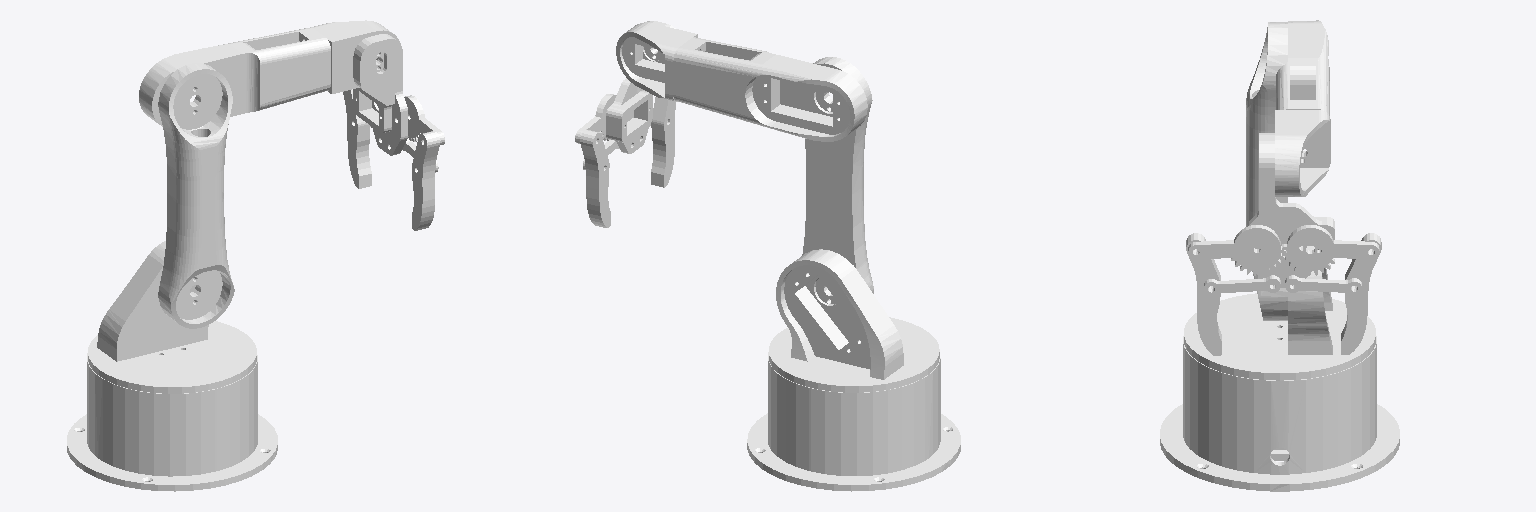
The robot description file, URDF, robot "mocha":
<?xml version="1.0" ?>
<!-- =================================================================================== -->
<!-- |    This document was autogenerated by xacro from [local-path]/catkin_ws/src/mocha/urdf/mocha.urdf.xacro | -->
<!-- |    EDITING THIS FILE BY HAND IS NOT RECOMMENDED                                 | -->
<!-- =================================================================================== -->
<!-- This URDF was automatically created by SolidWorks to URDF Exporter! Originally created by [author] ([email redacted]) 
     Commit Version: 1.6.0-4-g7f85cfe  Build Version: 1.6.7995.38578
     For more information, please see http://wiki.ros.org/sw_urdf_exporter -->
<robot name="mocha">
    <link name="world" />
    <joint name="base_joint" type="fixed">
        <parent link="world" />
        <child link="base_link" />
        <origin rpy="0 0 0" xyz="0.0 0.0 0.0" />
    </joint>
    <link name="base_link">
        <inertial>
            <origin rpy="0 0 0" xyz="0.000117199417675082 -3.05975474124143E-09 0.0223035723181941" />
            <mass value="0.0979582534406825" />
            <inertia ixx="0.000130552228522341" ixy="-2.22674811046477E-11" ixz="3.99226744269731E-06" iyy="0.000140414184143385" iyz="4.13550991731117E-13" izz="0.000212143374979004" />
        </inertial>
        <visual>
            <origin rpy="0 0 0" xyz="0 0 0" />
            <geometry>
                <mesh filename="package://mocha/meshes/base_link.STL" />
            </geometry>
            <material name="">
                <color rgba="1 1 1 1" />
            </material>
        </visual>
        <collision>
            <origin rpy="0 0 0" xyz="0 0 0" />
            <geometry>
                <mesh filename="package://mocha/meshes/base_link.STL" />
            </geometry>
        </collision>
    </link>
    <link name="waist">
        <inertial>
            <origin rpy="0 0 0" xyz="0.00169136098501852 0.00660819498532267 0.0133947545307733" />
            <mass value="0.0684427129118219" />
            <inertia ixx="4.56870454663408E-05" ixy="-3.78506837372467E-07" ixz="-6.20385180122017E-06" iyy="5.87238842271773E-05" iyz="-5.19129521124936E-06" izz="5.50839190250212E-05" />
        </inertial>
        <visual>
            <origin rpy="0 0 0" xyz="0 0 0" />
            <geometry>
                <mesh filename="package://mocha/meshes/waist.STL" />
            </geometry>
            <material name="">
                <color rgba="1 1 1 1" />
            </material>
        </visual>
        <collision>
            <origin rpy="0 0 0" xyz="0 0 0" />
            <geometry>
                <mesh filename="package://mocha/meshes/waist.STL" />
            </geometry>
        </collision>
    </link>
    <joint name="waist_joint" type="revolute">
        <origin rpy="0 0 0" xyz="0 0 0.06" />
        <parent link="base_link" />
        <child link="waist" />
        <axis xyz="0 0 1" />
        <limit effort="0.5" lower="-1.57" upper="1.57" velocity="2" />
    </joint>
    <link name="lower_arm">
        <inertial>
            <origin rpy="0 0 0" xyz="3.93901868173032E-07 0.0592049065989172 0.00178916982484342" />
            <mass value="0.0651630231570887" />
            <inertia ixx="0.0001091601766917" ixy="1.57817877665133E-12" ixz="-1.63546197405558E-10" iyy="9.28177418562022E-06" iyz="2.43213344379075E-07" izz="0.000114063850988314" />
        </inertial>
        <visual>
            <origin rpy="0 0 0" xyz="0 0 0" />
            <geometry>
                <mesh filename="package://mocha/meshes/lower_arm.STL" />
            </geometry>
            <material name="">
                <color rgba="1 1 1 1" />
            </material>
        </visual>
        <collision>
            <origin rpy="0 0 0" xyz="0 0 0" />
            <geometry>
                <mesh filename="package://mocha/meshes/lower_arm.STL" />
            </geometry>
        </collision>
    </link>
    <joint name="lower_arm_joint" type="revolute">
        <origin rpy="1.5708 0 0" xyz="0.014 -0.002 0.036" />
        <parent link="waist" />
        <child link="lower_arm" />
        <axis xyz="0 0 -1" />
        <limit effort="0.5" lower="-1.57" upper="1.57" velocity="2" />
    </joint>
    <link name="upper_arm">
        <inertial>
            <origin rpy="0 0 0" xyz="2.73149762194391E-05 -0.0392975972882241 -0.0134097745057252" />
            <mass value="0.0516349186566131" />
            <inertia ixx="5.57007690316697E-05" ixy="7.13258826752884E-08" ixz="-1.33389234030937E-10" iyy="9.57834353936765E-06" iyz="-2.93374413537984E-07" izz="5.94244390323794E-05" />
        </inertial>
        <visual>
            <origin rpy="0 0 0" xyz="0 0 0" />
            <geometry>
                <mesh filename="package://mocha/meshes/upper_arm.STL" />
            </geometry>
            <material name="">
                <color rgba="1 1 1 1" />
            </material>
        </visual>
        <collision>
            <origin rpy="0 0 0" xyz="0 0 0" />
            <geometry>
                <mesh filename="package://mocha/meshes/upper_arm.STL" />
            </geometry>
        </collision>
    </link>
    <joint name="upper_arm_joint" type="revolute">
        <origin rpy="0 0 1.5708" xyz="0 0.12 0" />
        <parent link="lower_arm" />
        <child link="upper_arm" />
        <axis xyz="0 0 -1" />
        <limit effort="0.5" lower="-1.57" upper="1.57" velocity="2" />
    </joint>
    <link name="wrist">
        <inertial>
            <origin rpy="0 0 0" xyz="-0.000251495550924491 -0.0083404809422172 0.107614818148418" />
            <mass value="0.0171876871003583" />
            <inertia ixx="4.13711327481054E-06" ixy="4.3006748459359E-09" ixz="1.26235492993703E-08" iyy="5.26929296743607E-06" iyz="-6.19224470166822E-07" izz="2.72952486208993E-06" />
        </inertial>
        <visual>
            <origin rpy="0 0 0" xyz="0 0 0" />
            <geometry>
                <mesh filename="package://mocha/meshes/wrist.STL" />
            </geometry>
            <material name="">
                <color rgba="1 1 1 1" />
            </material>
        </visual>
        <collision>
            <origin rpy="0 0 0" xyz="0 0 0" />
            <geometry>
                <mesh filename="package://mocha/meshes/wrist.STL" />
            </geometry>
        </collision>
    </link>
    <joint name="wrist_joint" type="revolute">
        <origin rpy="1.5708 0 0" xyz="0 0 0" />
        <parent link="upper_arm" />
        <child link="wrist" />
        <axis xyz="0 0 -1" />
        <limit effort="0.5" lower="-1.57" upper="1.57" velocity="2" />
    </joint>
    <link name="gripper_base">
        <inertial>
            <origin rpy="0 0 0" xyz="-0.0235511395842871 -0.00581676654887205 -0.00697660952907593" />
            <mass value="0.016035839168366" />
            <inertia ixx="2.61166695995785E-06" ixy="-1.39141263089559E-06" ixz="-1.45711892942644E-06" iyy="8.27807706460361E-06" iyz="-3.57354311122567E-07" izz="7.39239283095659E-06" />
        </inertial>
        <visual>
            <origin rpy="0 0 0" xyz="0 0 0" />
            <geometry>
                <mesh filename="package://mocha/meshes/gripper_base.STL" />
            </geometry>
            <material name="">
                <color rgba="1 1 1 1" />
            </material>
        </visual>
        <collision>
            <origin rpy="0 0 0" xyz="0 0 0" />
            <geometry>
                <mesh filename="package://mocha/meshes/gripper_base.STL" />
            </geometry>
        </collision>
    </link>
    <joint name="gripper_base_joint" type="revolute">
        <origin rpy="-1.5708 0 0" xyz="-0.0003 0.0055 0.11815" />
        <parent link="wrist" />
        <child link="gripper_base" />
        <axis xyz="0 0 1" />
        <limit effort="0.5" lower="0" upper="3.14" velocity="2" />
    </joint>
    <link name="right_gear">
        <inertial>
            <origin rpy="0 0 0" xyz="0.000862162528650318 0.00554450246517772 0.002" />
            <mass value="0.00269444555032233" />
            <inertia ixx="3.71793221229667E-07" ixy="-3.66151898287318E-09" ixz="-3.11247770814466E-22" iyy="9.15764277476901E-08" iyz="-4.18219490705315E-22" izz="4.56184460843164E-07" />
        </inertial>
        <visual>
            <origin rpy="0 0 0" xyz="0 0 0" />
            <geometry>
                <mesh filename="package://mocha/meshes/right_gear.STL" />
            </geometry>
            <material name="">
                <color rgba="1 1 1 1" />
            </material>
        </visual>
        <collision>
            <origin rpy="0 0 0" xyz="0 0 0" />
            <geometry>
                <mesh filename="package://mocha/meshes/right_gear.STL" />
            </geometry>
        </collision>
    </link>
    <joint name="right_gear_joint" type="revolute">
        <origin rpy="1.5708 0 3.1416" xyz="-0.038 -0.0215 0.004" />
        <parent link="gripper_base" />
        <child link="right_gear" />
        <axis xyz="0 0 -1" />
        <limit effort="0.5" lower="0" upper="3.14" velocity="2" />
        <mimic joint="left_gear_joint" multiplier="1" offset="0" />
    </joint>
    <link name="right_finger">
        <inertial>
            <origin rpy="0 0 0" xyz="0.0267479392094104 -0.00529029293468648 0.00825002259150889" />
            <mass value="0.00550542078574704" />
            <inertia ixx="1.15006391171339E-07" ixy="1.91197506802569E-07" ixz="-1.71052844021085E-12" iyy="1.69947685318375E-06" iyz="1.42084945996662E-11" izz="1.74818882959069E-06" />
        </inertial>
        <visual>
            <origin rpy="0 0 0" xyz="0 0 0" />
            <geometry>
                <mesh filename="package://mocha/meshes/right_finger.STL" />
            </geometry>
            <material name="">
                <color rgba="1 1 1 1" />
            </material>
        </visual>
        <collision>
            <origin rpy="0 0 0" xyz="0 0 0" />
            <geometry>
                <mesh filename="package://mocha/meshes/right_finger.STL" />
            </geometry>
        </collision>
    </link>
    <joint name="right_finger_joint" type="revolute">
        <origin rpy="0 0 0" xyz="0.0014378 0.030716 0" />
        <parent link="right_gear" />
        <child link="right_finger" />
        <axis xyz="0 0 -1" />
        <limit effort="0.5" lower="0" upper="3.14" velocity="2" />
        <mimic joint="left_gear_joint" multiplier="-1" offset="0" />
    </joint>
    <link name="left_gear">
        <inertial>
            <origin rpy="0 0 0" xyz="0.000868914166758522 -0.00563101926893944 -0.002" />
            <mass value="0.00261717686273073" />
            <inertia ixx="3.70848537895313E-07" ixy="3.28405598542026E-09" ixz="-3.23827368834952E-22" iyy="9.12164029816256E-08" iyz="-4.58013781424372E-22" izz="4.55085802576324E-07" />
        </inertial>
        <visual>
            <origin rpy="0 0 0" xyz="0 0 0" />
            <geometry>
                <mesh filename="package://mocha/meshes/left_gear.STL" />
            </geometry>
            <material name="">
                <color rgba="1 1 1 1" />
            </material>
        </visual>
        <collision>
            <origin rpy="0 0 0" xyz="0 0 0" />
            <geometry>
                <mesh filename="package://mocha/meshes/left_gear.STL" />
            </geometry>
        </collision>
    </link>
    <joint name="left_gear_joint" type="revolute">
        <origin rpy="1.5708 0 3.1416" xyz="-0.038 -0.0175 -0.0229" />
        <parent link="gripper_base" />
        <child link="left_gear" />
        <axis xyz="0 0 1" />
        <limit effort="0.5" lower="0" upper="3.14" velocity="2" />
    </joint>
    <link name="left_finger">
        <inertial>
            <origin rpy="0 0 0" xyz="0.0264952988065887 0.00643728187189994 0.00824997740849176" />
            <mass value="0.00550542088206421" />
            <inertia ixx="1.34397312995325E-07" ixy="-2.58659921284749E-07" ixz="1.09467430768046E-12" iyy="1.68008574838117E-06" iyz="1.42676907042123E-11" izz="1.74818864591621E-06" />
        </inertial>
        <visual>
            <origin rpy="0 0 0" xyz="0 0 0" />
            <geometry>
                <mesh filename="package://mocha/meshes/left_finger.STL" />
            </geometry>
            <material name="">
                <color rgba="1 1 1 1" />
            </material>
        </visual>
        <collision>
            <origin rpy="0 0 0" xyz="0 0 0" />
            <geometry>
                <mesh filename="package://mocha/meshes/left_finger.STL" />
            </geometry>
        </collision>
    </link>
    <joint name="left_finger_joint" type="revolute">
        <origin rpy="0 0 0" xyz="0.0014378 -0.030716 -0.004" />
        <parent link="left_gear" />
        <child link="left_finger" />
        <axis xyz="0 0 -1" />
        <limit effort="0.5" lower="0" upper="3.14" velocity="2" />
        <mimic joint="left_gear_joint" multiplier="1" offset="0" />
    </joint>
    <link name="right_link">
        <inertial>
            <origin rpy="0 0 0" xyz="0.00100774826959747 0.0154672054174738 0.00200000000000006" />
            <mass value="0.000814737661448385" />
            <inertia ixx="1.04552091697251E-07" ixy="-6.57056810897569E-09" ixz="-1.39427938070675E-23" iyy="4.1332522394072E-09" iyz="-1.17131498885849E-22" izz="1.06512710172796E-07" />
        </inertial>
        <visual>
            <origin rpy="0 0 0" xyz="0 0 0" />
            <geometry>
                <mesh filename="package://mocha/meshes/right_link.STL" />
            </geometry>
            <material name="">
                <color rgba="1 1 1 1" />
            </material>
        </visual>
        <collision>
            <origin rpy="0 0 0" xyz="0 0 0" />
            <geometry>
                <mesh filename="package://mocha/meshes/right_link.STL" />
            </geometry>
        </collision>
    </link>
    <joint name="right_link_joint" type="revolute">
        <origin rpy="1.5708 0 3.1416" xyz="-0.058 -0.0215 -0.004" />
        <parent link="gripper_base" />
        <child link="right_link" />
        <axis xyz="0 0 -1" />
        <limit effort="0.5" lower="0" upper="3.14" velocity="2" />
        <mimic joint="left_gear_joint" multiplier="1" offset="0" />
    </joint>
    <link name="left_link">
        <inertial>
            <origin rpy="0 0 0" xyz="0.000830638506810533 -0.0154777272126691 0.002" />
            <mass value="0.000814737661448385" />
            <inertia ixx="1.04689343606938E-07" ixy="5.41948795586974E-09" ixz="1.26001100056874E-24" iyy="3.99600032972003E-09" iyz="-1.15348736080485E-22" izz="1.06512710172796E-07" />
        </inertial>
        <visual>
            <origin rpy="0 0 0" xyz="0 0 0" />
            <geometry>
                <mesh filename="package://mocha/meshes/left_link.STL" />
            </geometry>
            <material name="">
                <color rgba="1 1 1 1" />
            </material>
        </visual>
        <collision>
            <origin rpy="0 0 0" xyz="0 0 0" />
            <geometry>
                <mesh filename="package://mocha/meshes/left_link.STL" />
            </geometry>
        </collision>
    </link>
    <joint name="left_link_joint" type="revolute">
        <origin rpy="1.5708 0 3.1416" xyz="-0.058 -0.0215 -0.014" />
        <parent link="gripper_base" />
        <child link="left_link" />
        <axis xyz="0 0 -1" />
        <limit effort="0.5" lower="0" upper="3.14" velocity="2" />
        <mimic joint="left_gear_joint" multiplier="-1" offset="0" />
    </joint>
    <gazebo>
        <plugin filename="libgazebo_ros_control.so" name="gazebo_ros_control">
            <robotSimType>gazebo_ros_control/DefaultRobotHWSim</robotSimType>
            <legacyModeNS>true</legacyModeNS>
            <robotNamespace>/mocha</robotNamespace>
        </plugin>
        <plugin filename="libroboticsgroup_gazebo_mimic_joint_plugin.so" name="right_gear_joint_mimic_left_gear_joint">
            <joint>left_gear_joint</joint>
            <mimicJoint>right_gear_joint</mimicJoint>
            <multiplier>-1.0</multiplier>
            <offset>0</offset>
            <maxEffort>0.5</maxEffort>
            <robotNamespace>/mocha</robotNamespace>
        </plugin>
    </gazebo>
    <transmission name="transmission_waist_joint">
        <type>transmission_interface/SimpleTransmission</type>
        <joint name="waist_joint">
            <hardwareInterface>hardware_interface/PositionJointInterface</hardwareInterface>
        </joint>
        <actuator name="motor_waist_joint">
            <hardwareInterface>hardware_interface/PositionJointInterface</hardwareInterface>
            <mechanicalReduction>1</mechanicalReduction>
        </actuator>
    </transmission>
    <transmission name="transmission_lower_arm_joint">
        <type>transmission_interface/SimpleTransmission</type>
        <joint name="lower_arm_joint">
            <hardwareInterface>hardware_interface/PositionJointInterface</hardwareInterface>
        </joint>
        <actuator name="motor_lower_arm_joint">
            <hardwareInterface>hardware_interface/PositionJointInterface</hardwareInterface>
            <mechanicalReduction>1</mechanicalReduction>
        </actuator>
    </transmission>
    <transmission name="transmission_upper_arm_joint">
        <type>transmission_interface/SimpleTransmission</type>
        <joint name="upper_arm_joint">
            <hardwareInterface>hardware_interface/PositionJointInterface</hardwareInterface>
        </joint>
        <actuator name="motor_upper_arm_joint">
            <hardwareInterface>hardware_interface/PositionJointInterface</hardwareInterface>
            <mechanicalReduction>1</mechanicalReduction>
        </actuator>
    </transmission>
    <transmission name="transmission_wrist_joint">
        <type>transmission_interface/SimpleTransmission</type>
        <joint name="wrist_joint">
            <hardwareInterface>hardware_interface/PositionJointInterface</hardwareInterface>
        </joint>
        <actuator name="motor_wrist_joint">
            <hardwareInterface>hardware_interface/PositionJointInterface</hardwareInterface>
            <mechanicalReduction>1</mechanicalReduction>
        </actuator>
    </transmission>
    <transmission name="transmission_gripper_base_joint">
        <type>transmission_interface/SimpleTransmission</type>
        <joint name="gripper_base_joint">
            <hardwareInterface>hardware_interface/PositionJointInterface</hardwareInterface>
        </joint>
        <actuator name="motor_gripper_base_joint">
            <hardwareInterface>hardware_interface/PositionJointInterface</hardwareInterface>
            <mechanicalReduction>1</mechanicalReduction>
        </actuator>
    </transmission>
    <transmission name="transmission_left_gear_joint">
        <type>transmission_interface/SimpleTransmission</type>
        <joint name="left_gear_joint">
            <hardwareInterface>hardware_interface/PositionJointInterface</hardwareInterface>
        </joint>
        <actuator name="motor_left_gear_joint">
            <hardwareInterface>hardware_interface/PositionJointInterface</hardwareInterface>
            <mechanicalReduction>1</mechanicalReduction>
        </actuator>
    </transmission>
    <transmission name="trans_right_gear_joint">
        <type>transmission_interface/SimpleTransmission</type>
        <joint name="right_gear_joint">
            <hardwareInterface>hardware_interface/EffortJointInterface</hardwareInterface>
        </joint>
        <actuator name="right_gear_joint_motor">
            <hardwareInterface>hardware_interface/EffortJointInterface</hardwareInterface>
            <mechanicalReduction>1</mechanicalReduction>
        </actuator>
    </transmission>
    <transmission name="trans_right_finger_joint">
        <type>transmission_interface/SimpleTransmission</type>
        <joint name="right_finger_joint">
            <hardwareInterface>hardware_interface/EffortJointInterface</hardwareInterface>
        </joint>
        <actuator name="right_finger_joint_motor">
            <hardwareInterface>hardware_interface/EffortJointInterface</hardwareInterface>
            <mechanicalReduction>1</mechanicalReduction>
        </actuator>
    </transmission>
    <transmission name="trans_left_finger_joint">
        <type>transmission_interface/SimpleTransmission</type>
        <joint name="left_finger_joint">
            <hardwareInterface>hardware_interface/EffortJointInterface</hardwareInterface>
        </joint>
        <actuator name="left_finger_joint_motor">
            <hardwareInterface>hardware_interface/EffortJointInterface</hardwareInterface>
            <mechanicalReduction>1</mechanicalReduction>
        </actuator>
    </transmission>
    <transmission name="trans_right_link_joint">
        <type>transmission_interface/SimpleTransmission</type>
        <joint name="right_link_joint">
            <hardwareInterface>hardware_interface/EffortJointInterface</hardwareInterface>
        </joint>
        <actuator name="right_link_joint_motor">
            <hardwareInterface>hardware_interface/EffortJointInterface</hardwareInterface>
            <mechanicalReduction>1</mechanicalReduction>
        </actuator>
    </transmission>
    <transmission name="trans_left_link_joint">
        <type>transmission_interface/SimpleTransmission</type>
        <joint name="left_link_joint">
            <hardwareInterface>hardware_interface/EffortJointInterface</hardwareInterface>
        </joint>
        <actuator name="left_link_joint_motor">
            <hardwareInterface>hardware_interface/EffortJointInterface</hardwareInterface>
            <mechanicalReduction>1</mechanicalReduction>
        </actuator>
    </transmission>
</robot>

--- Render facts (derived) ---
Views: 3 orthographic renders of the robot side by side, from view 1: azimuth 30°, elevation 25°; view 2: azimuth 150°, elevation 25°; view 3: azimuth 270°, elevation 25°.
Robot: mocha — 13 links, 12 joints (11 revolute, 1 fixed); root link world; default pose: every joint at zero.
Visible links, largest first — view 1: base_link, lower_arm, waist, upper_arm, gripper_base, wrist, right_finger, left_finger, right_gear; view 2: base_link, waist, upper_arm, lower_arm, wrist, gripper_base, left_finger, right_finger, left_gear; view 3: base_link, waist, lower_arm, wrist, upper_arm, gripper_base, right_gear, left_gear, left_finger, right_finger, left_link, right_link.
Link boxes in pixels (x1,y1,x2,y2): base_link: (67,353,277,491); lower_arm: (158,63,234,328); waist: (88,241,256,393); upper_arm: (139,27,330,126); gripper_base: (353,34,407,155); wrist: (312,20,400,93); right_finger: (412,131,439,230); left_finger: (343,89,371,188); right_gear: (404,95,444,144); base_link: (747,352,960,491); waist: (769,249,939,392); upper_arm: (673,37,867,141); lower_arm: (802,57,873,304); wrist: (616,22,697,101); gripper_base: (606,21,675,153); left_finger: (580,129,610,227); right_finger: (651,97,675,187); left_gear: (575,94,616,143); base_link: (1160,336,1399,491); waist: (1184,267,1375,380); lower_arm: (1246,22,1287,320); wrist: (1275,110,1330,196); upper_arm: (1276,20,1329,152); gripper_base: (1247,133,1334,287); right_gear: (1188,225,1285,275); left_gear: (1282,225,1379,275); left_finger: (1341,233,1381,354); right_finger: (1186,233,1221,355); left_link: (1285,275,1361,295); right_link: (1204,275,1280,296).
Bounding box of the posed robot: 0.2143 × 0.1213 × 0.237 m (x, y, z).
Meshes: 12 distinct files referenced, 12 mesh visuals loaded (12 binary STL).
